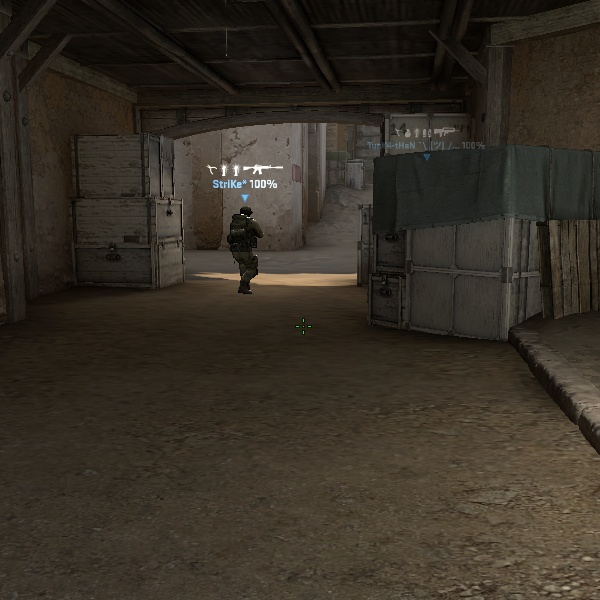ct_body: (225, 206, 265, 299)
ct_head: (239, 204, 254, 219)
